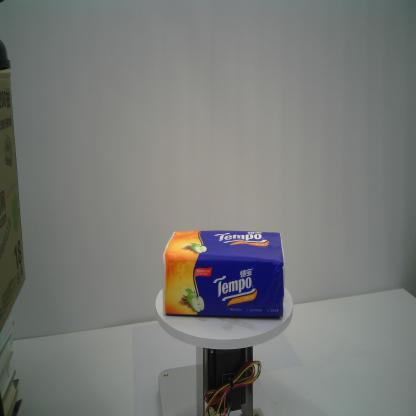Tissue: (161, 230, 285, 319)
